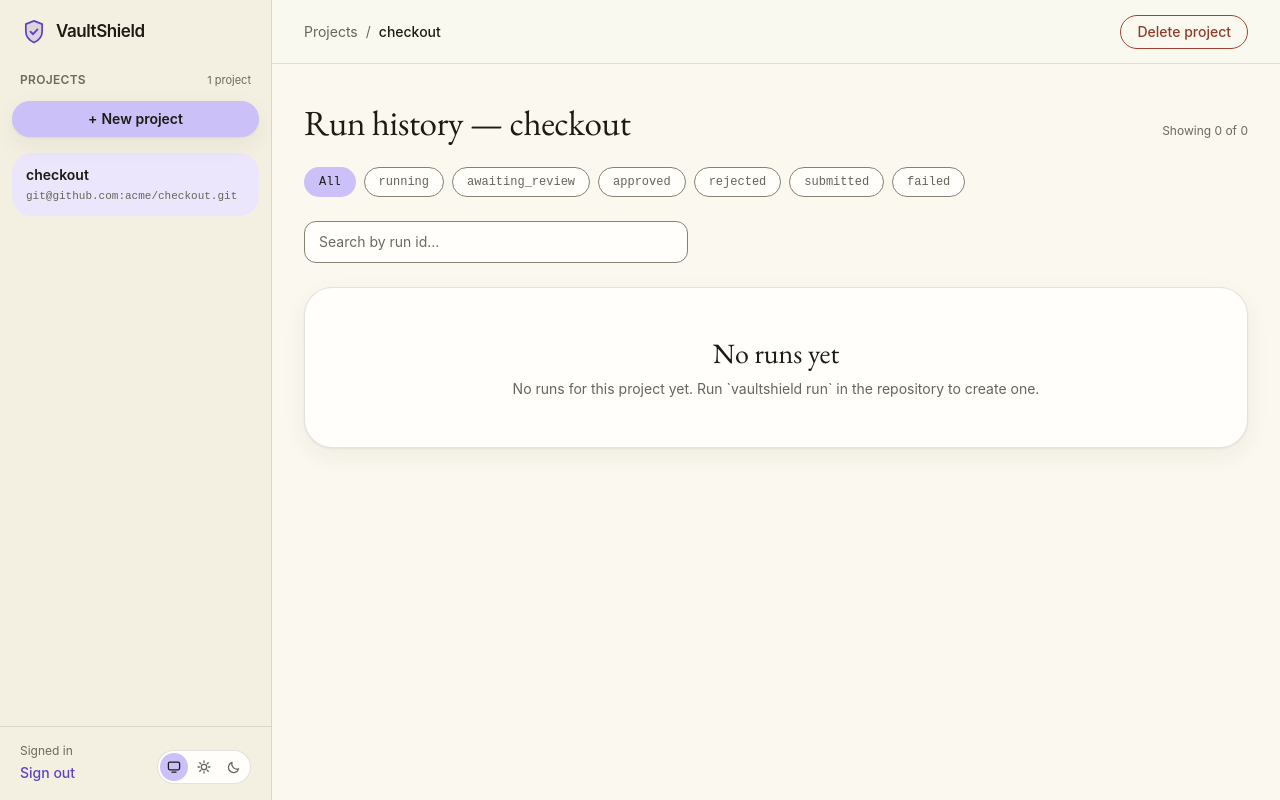
deletes the project and navigates back to the overview
Click the button "Delete project". click: (1184, 32)
box: [1120,14,1248,48]
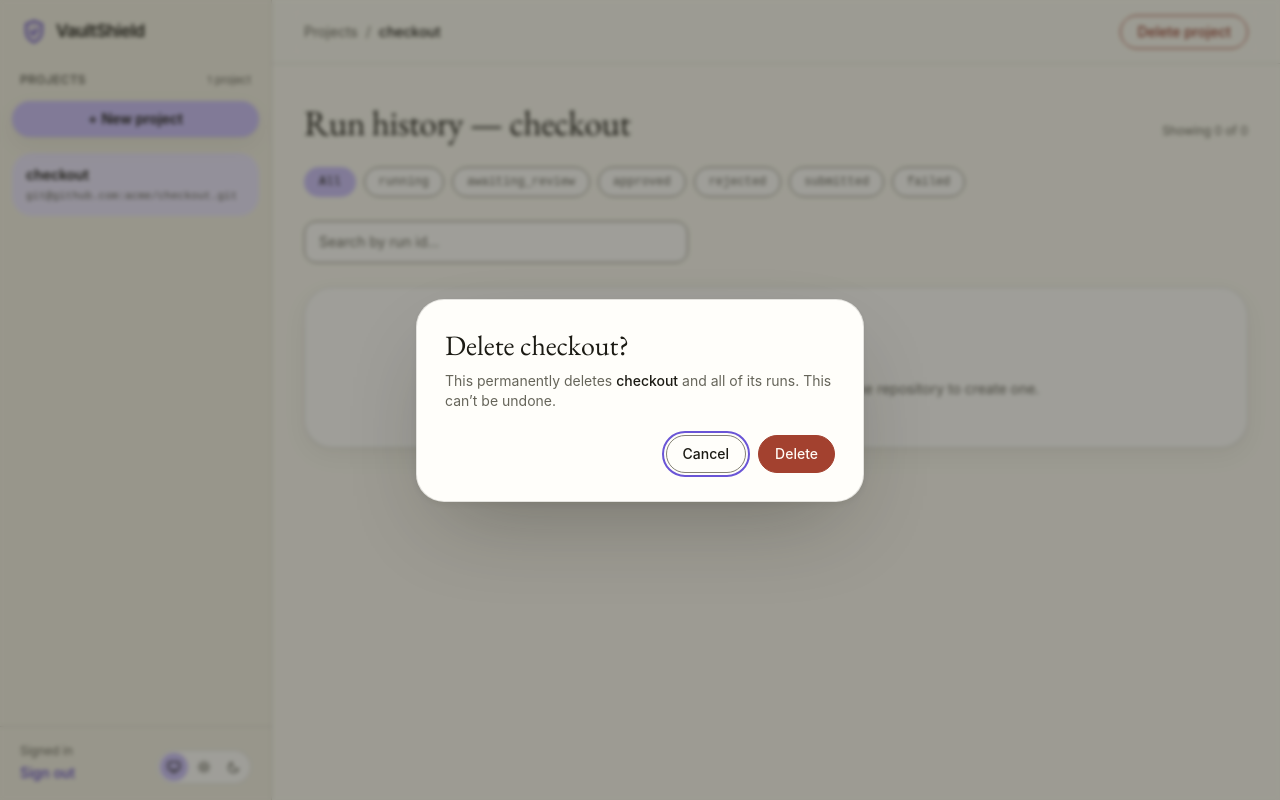
Click the button "Delete". click: (797, 454)
box: [758,434,835,472]
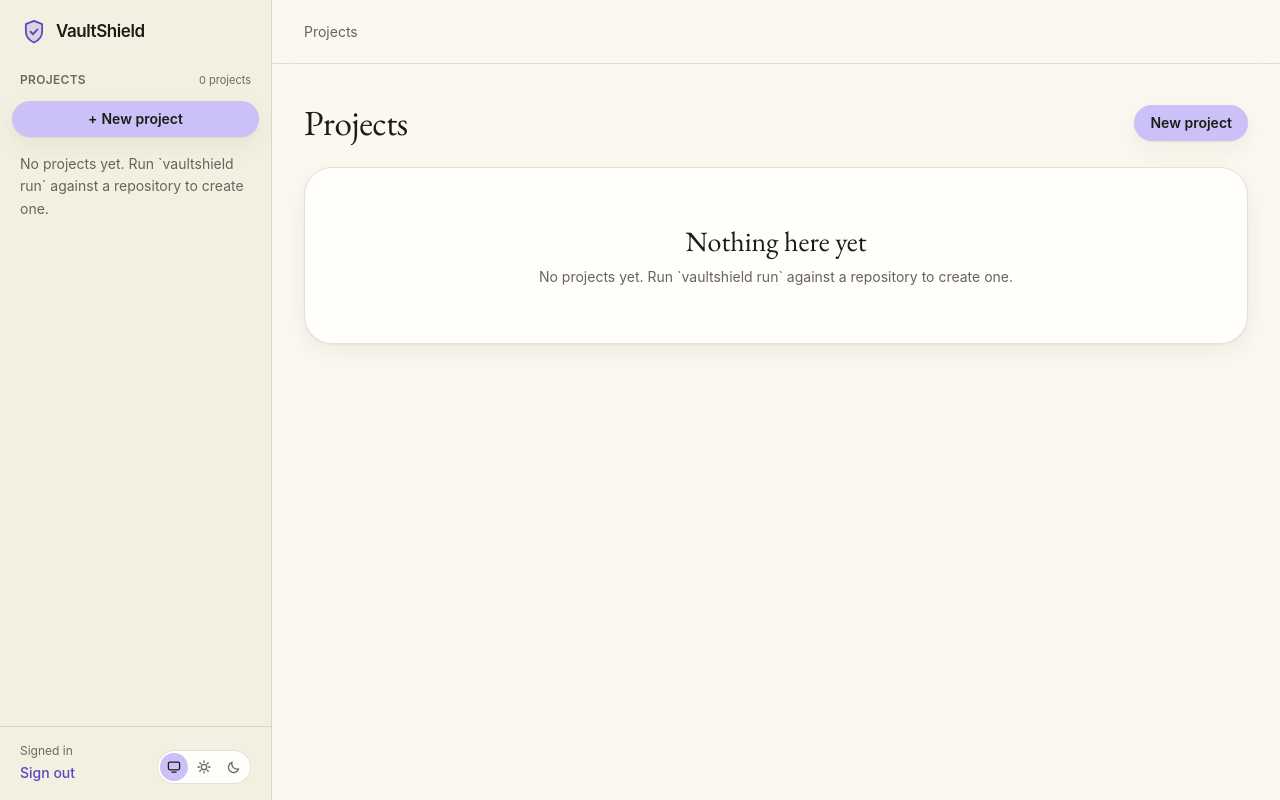
Now the dialog is gone
Now the 1st text "No projects yet" is shown, box [20,154,244,217]
Now the button "Delete project" is gone
